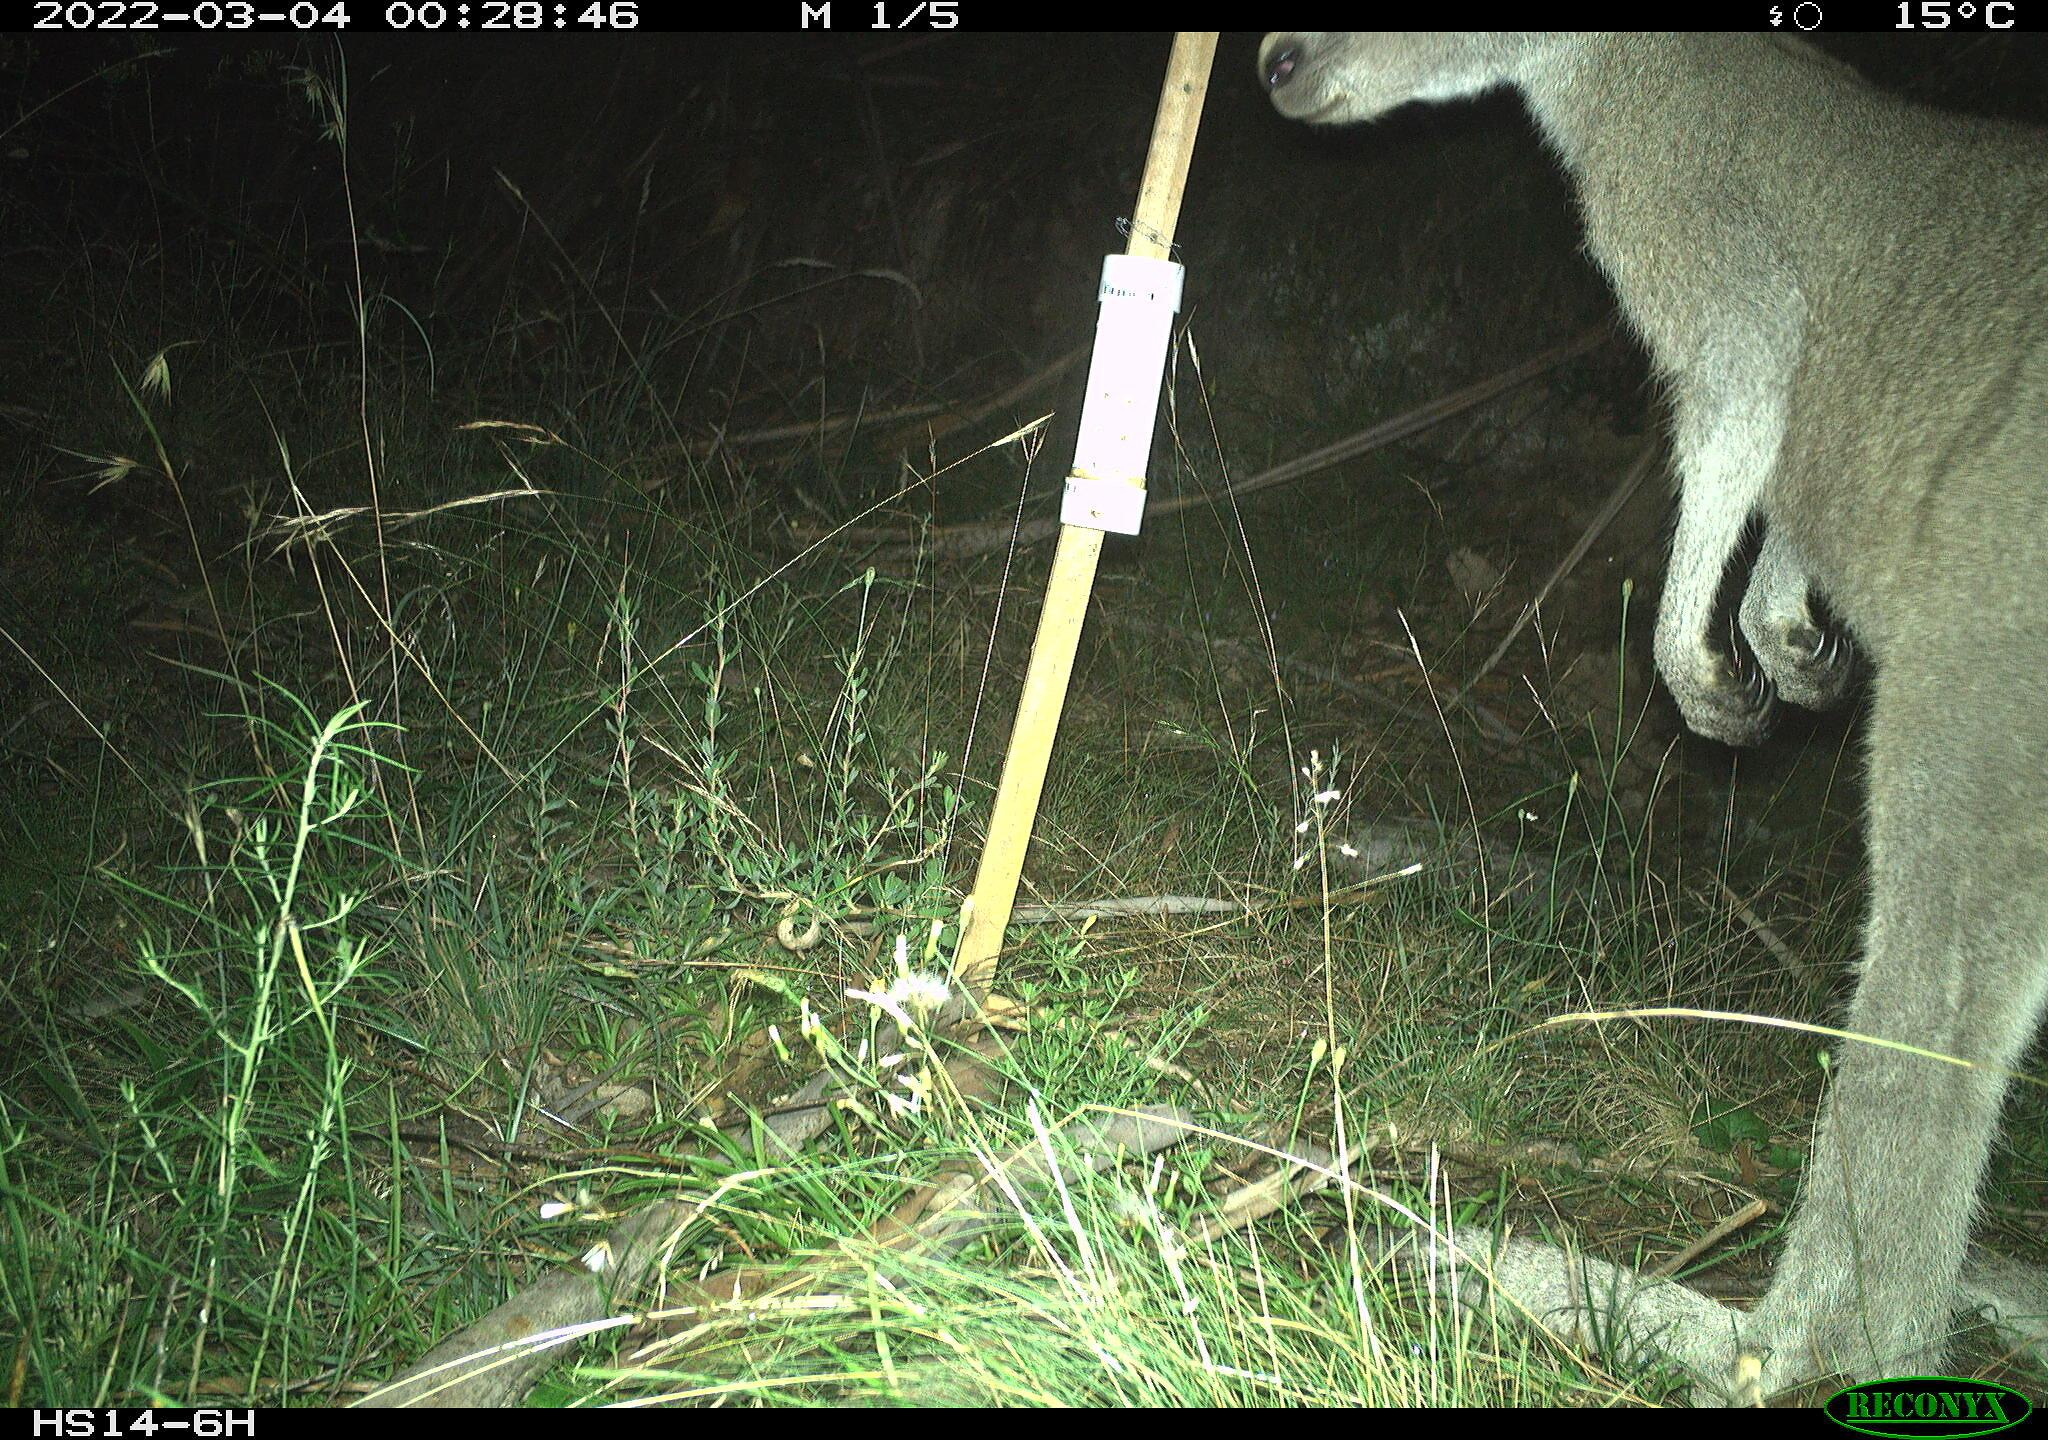Eastern grey kangaroo: (1262, 33, 2048, 1379)
